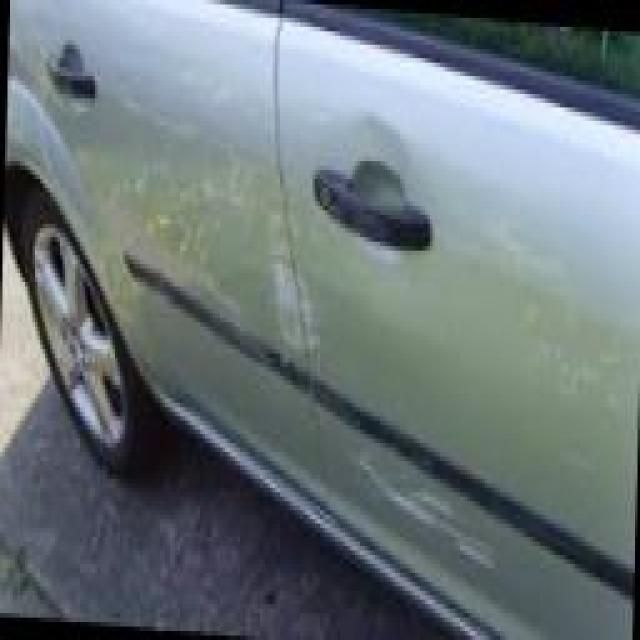Door: (313, 370, 551, 628), (244, 155, 331, 382)
